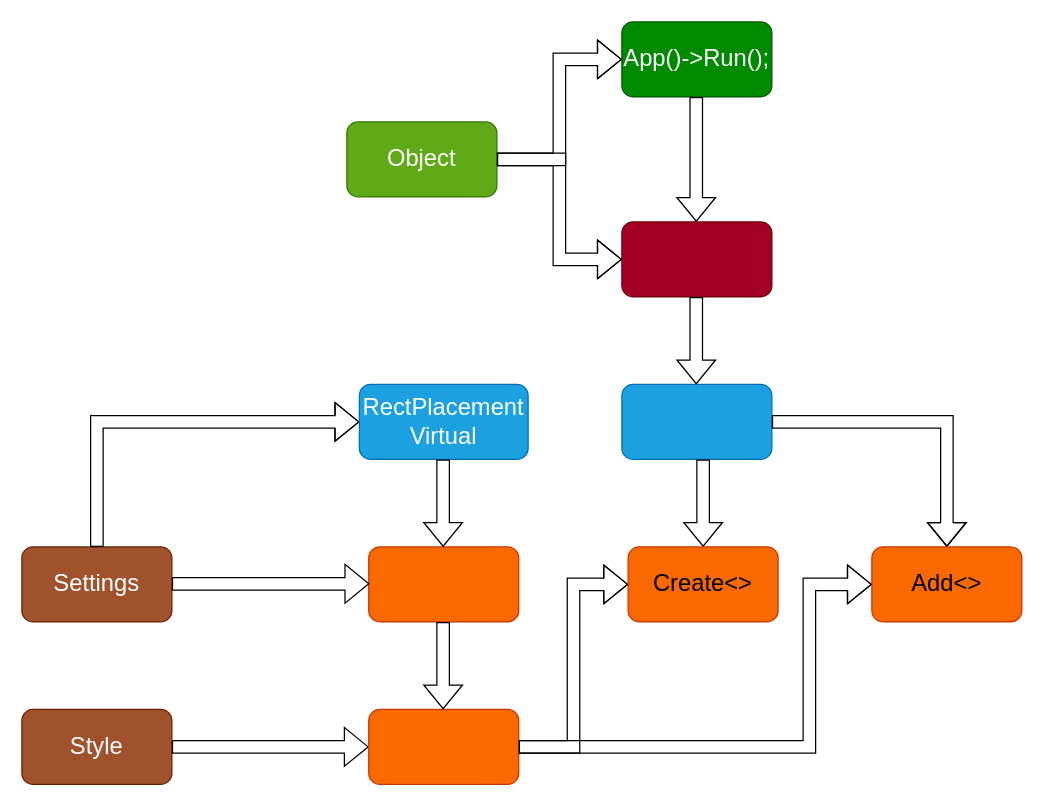
Some shapes in this 1044 by 806 pixel diagram are drawn without their labels. The box of each missing label's shape, as (x1, y1, x2, y2) in pixels:
DataSet: (621, 221, 772, 297)
Element Virtual: (621, 383, 772, 459)
Property<>: (368, 708, 519, 784)
Rect<>: (368, 546, 519, 622)
